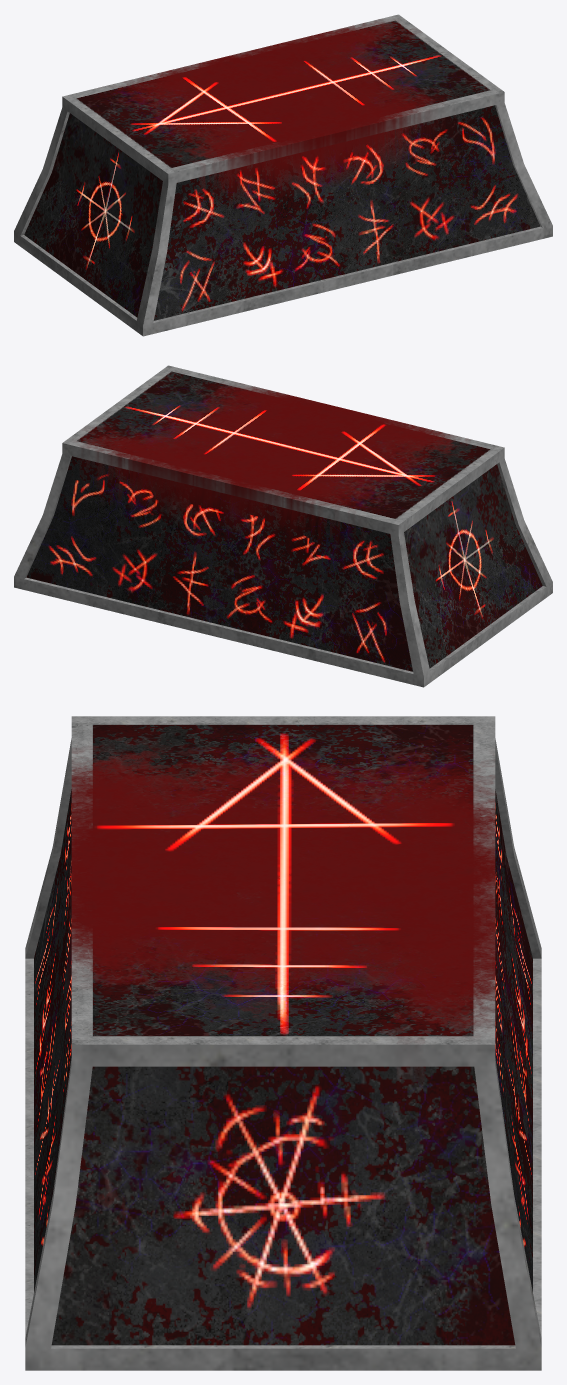
The model's file is Altar.fbx.
3 views of the same model, one above another, from view 1: azimuth 30°, elevation 25°; view 2: azimuth 150°, elevation 25°; view 3: azimuth 270°, elevation 25° (orthographic). The views are drawn at different scales.
Parts seen in each view (by area): view 1: Altar; view 2: Altar; view 3: Altar.
Part boxes in pixels (<box>): Altar: <box>14,14,552,336</box>; Altar: <box>14,365,552,687</box>; Altar: <box>25,716,541,1370</box>.
Size of the model in its own units: 246 by 83.24 by 134.
1 material, 1 textured.
